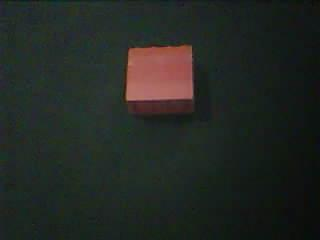lego: (120, 43, 198, 115)
